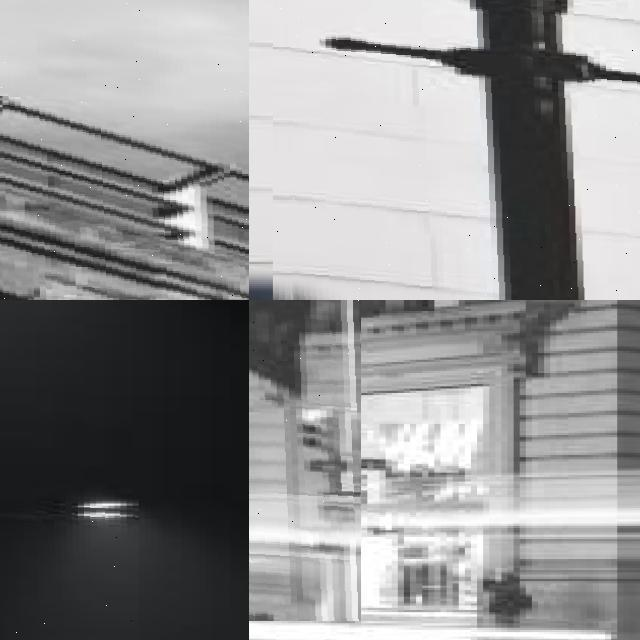street light: (273, 0, 640, 300), (0, 0, 249, 300), (249, 300, 361, 621), (0, 499, 139, 640)
